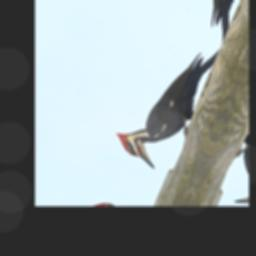Woodpecker: (106, 34, 218, 176)
